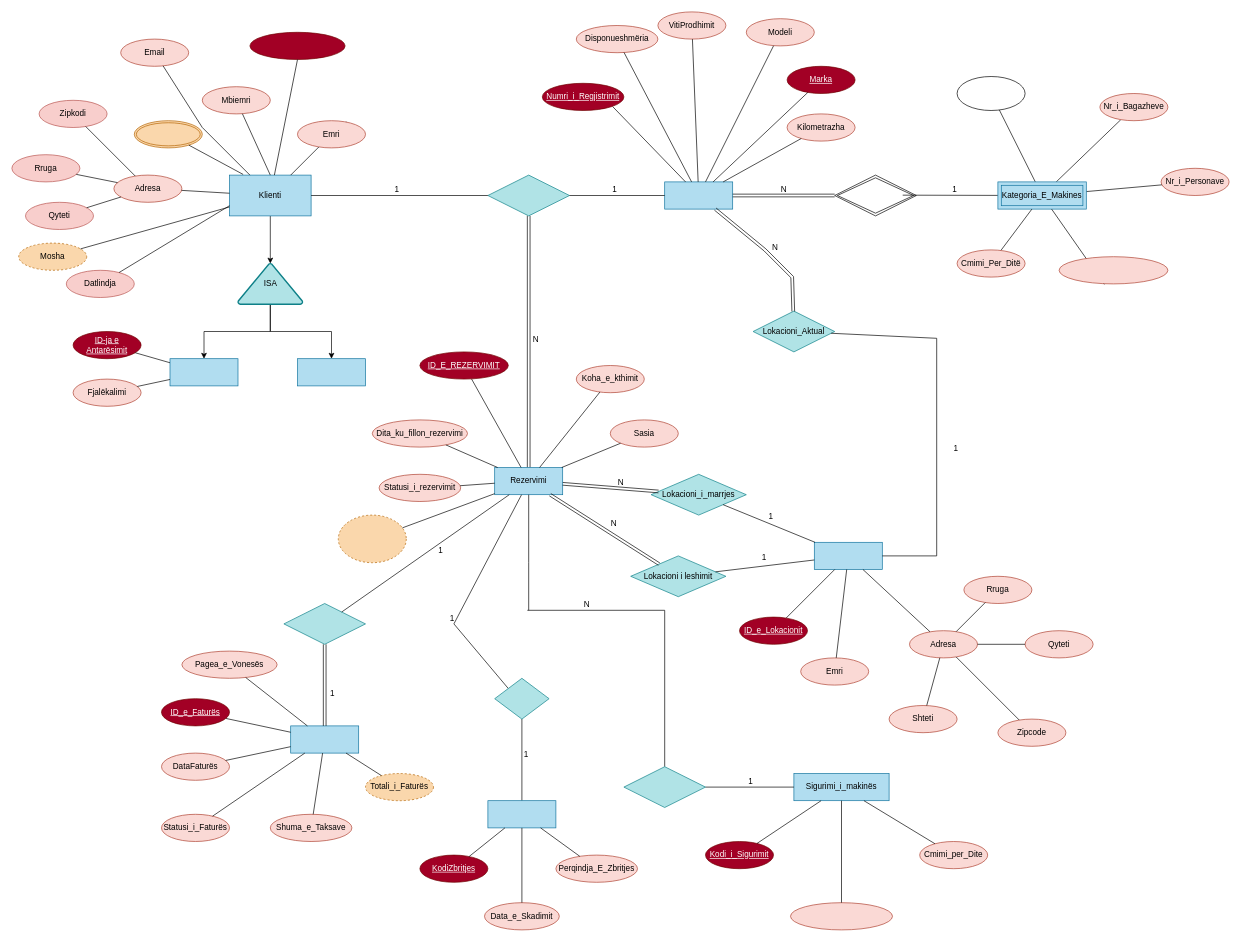
Some shapes in this 1241 by 942 pixel diagram are drawn without their labels. The shapes that lost their labels are listed below. From the top down, each one's centre as x and y in pixels, then its label:
At pixel 297 46: "Numri i patentshoferit".
At pixel 990 93: "Marka ...............".
At pixel 168 134: "Nr_Tel".
At pixel 528 195: "Merr me qera".
At pixel 698 195: "Makinë".
At pixel 875 195: "I përket".
At pixel 1113 270: "Cmimi_i_voneses_per_ore".
At pixel 203 372: "Anëtar".
At pixel 331 372: "Jo-Anëtar".
At pixel 372 538: "Koha e mbetur deri te kthimi i makines".
At pixel 848 556: "Lokacioni".
At pixel 324 623: "Jep".
At pixel 521 698: "Ka".
At pixel 324 739: "Faturimi".
At pixel 664 787: "Përfshin".
At pixel 521 814: "Zbritje".
At pixel 841 916: "Kategoria_e_Perfshimit".
